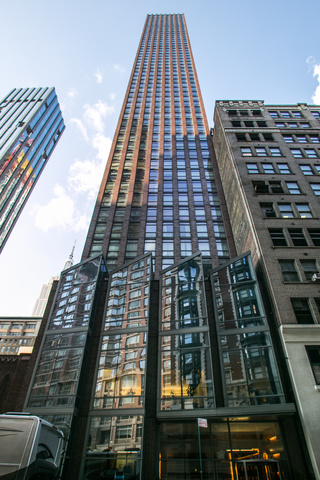Sky Building: (80, 10, 259, 461)
